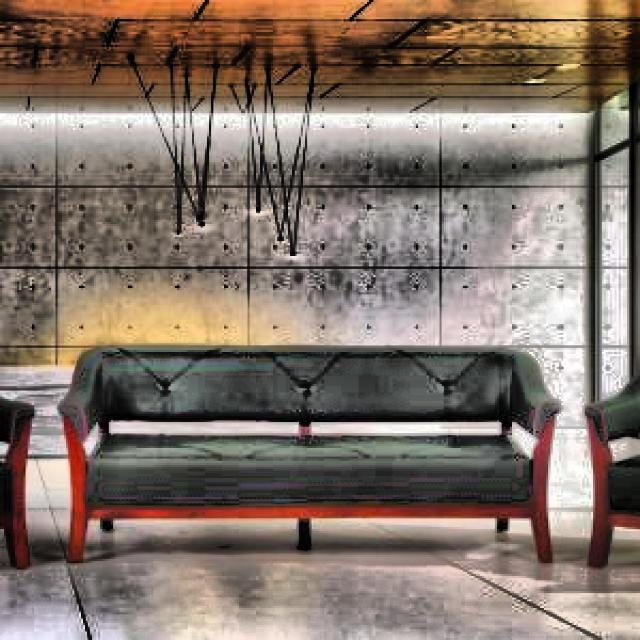sofa: (56, 344, 561, 566), (0, 316, 34, 578)
